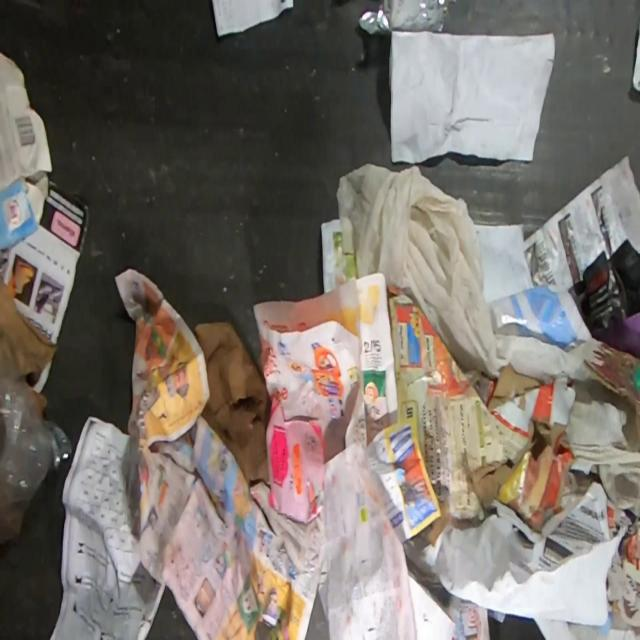cardboard: (387, 293, 576, 546), (465, 418, 577, 535), (194, 321, 270, 488), (0, 50, 53, 249), (265, 396, 325, 525), (0, 272, 59, 388), (462, 361, 540, 411), (32, 388, 48, 419)
soft_plastic: (0, 371, 72, 545), (357, 0, 449, 35)
